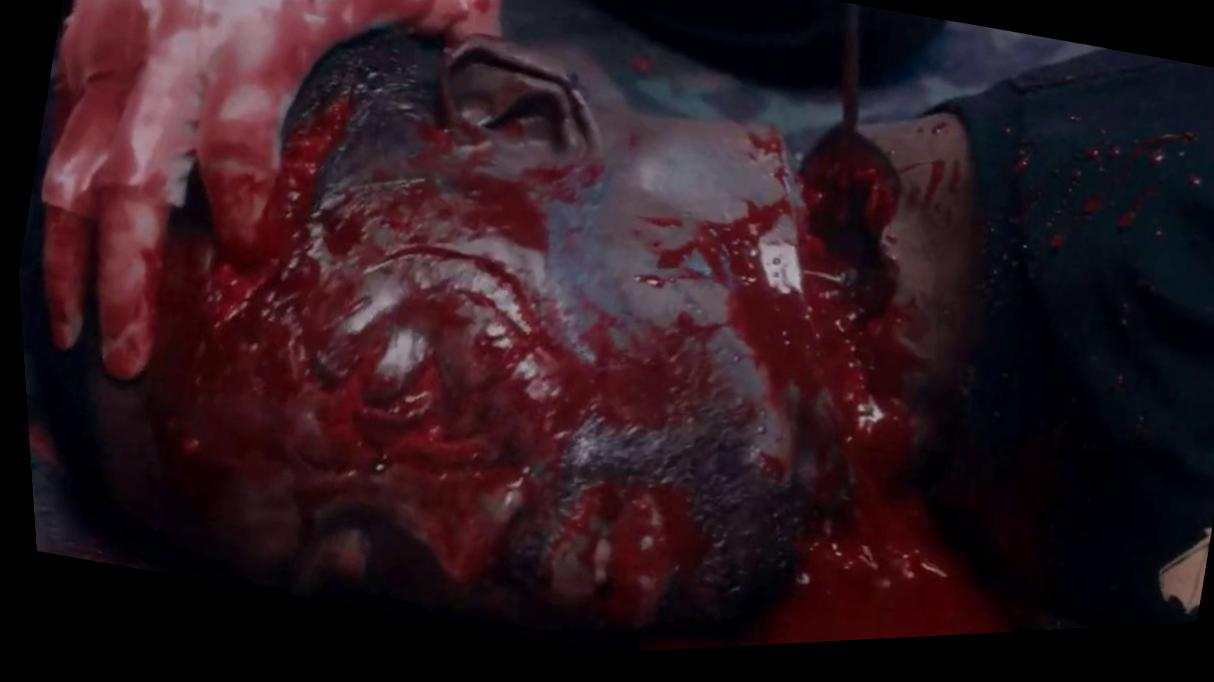Fire: (31, 0, 1000, 659), (930, 88, 1214, 642), (41, 529, 107, 565)
